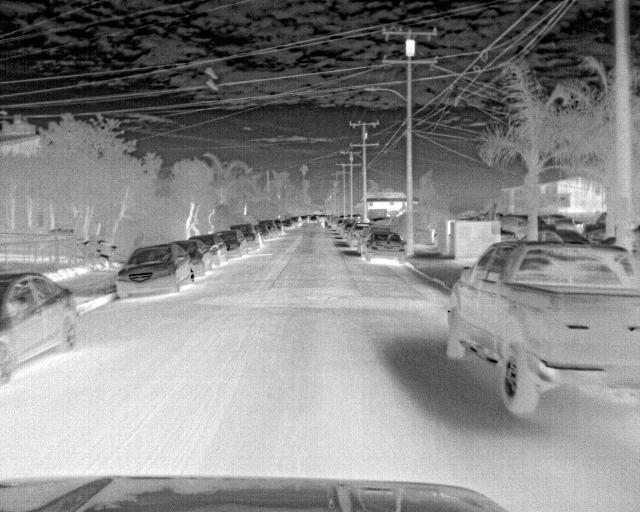car: (441, 237, 639, 419), (0, 271, 83, 382), (113, 241, 194, 303), (357, 229, 407, 262), (168, 239, 212, 275), (191, 234, 224, 264), (538, 228, 590, 244), (228, 225, 262, 248), (216, 230, 244, 256), (346, 226, 378, 247), (253, 222, 280, 241), (278, 220, 296, 232), (289, 214, 302, 226)
